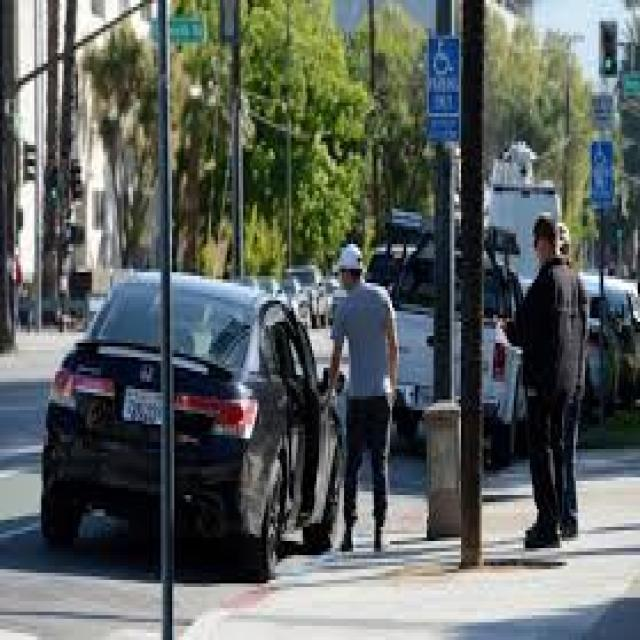symbol_of_access: (431, 37, 454, 74), (592, 144, 606, 168)
